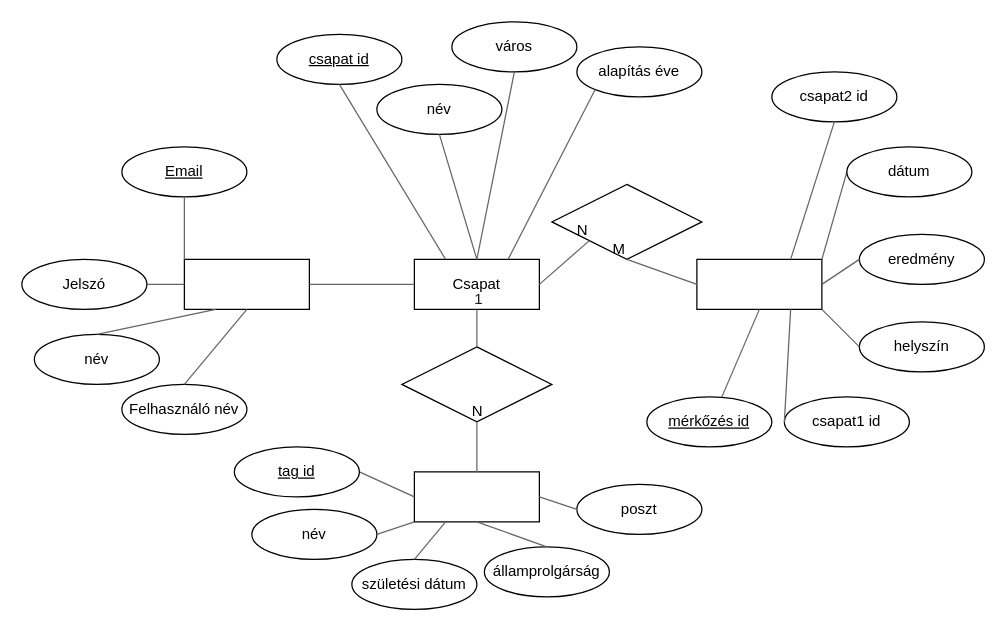
Some shapes in this 1006 by 631 pixel diagram are drawn without their labels. The centre of each missing label's shape, as x and y in pixels:
"Felhasználó" goes at pixel 246 283.
"Mérkőzések" goes at pixel 759 283.
"Részt vesz" goes at pixel 626 221.
"Tagja" goes at pixel 476 384.
"Tagok" goes at pixel 476 496.
